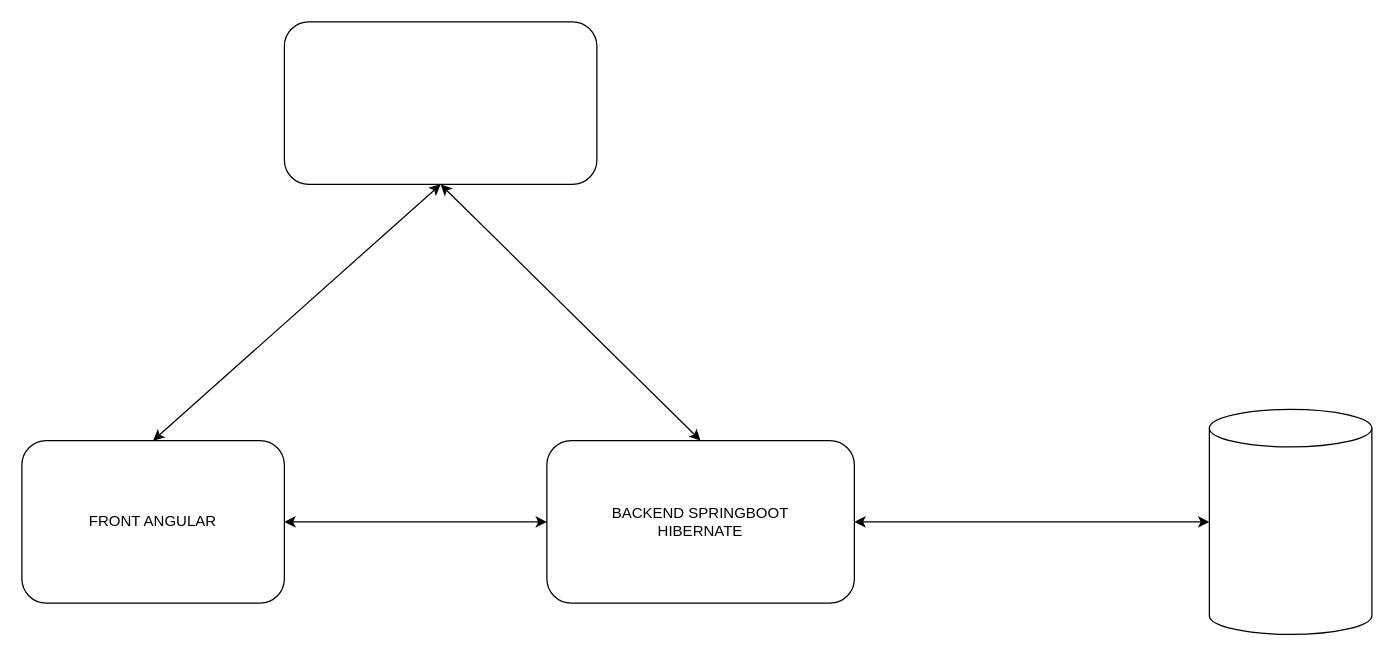
The diagram is 1394 pixels wide and 656 high, and some of its shapes have lost their labels. The shapes that lost their labels are listed below. From the top down, each one's centre as x and y in pixels, then its label:
At point (440, 102): "KEYCLOAK OAUTH2".
At point (1290, 521): "BDD POSTGRESQL".
